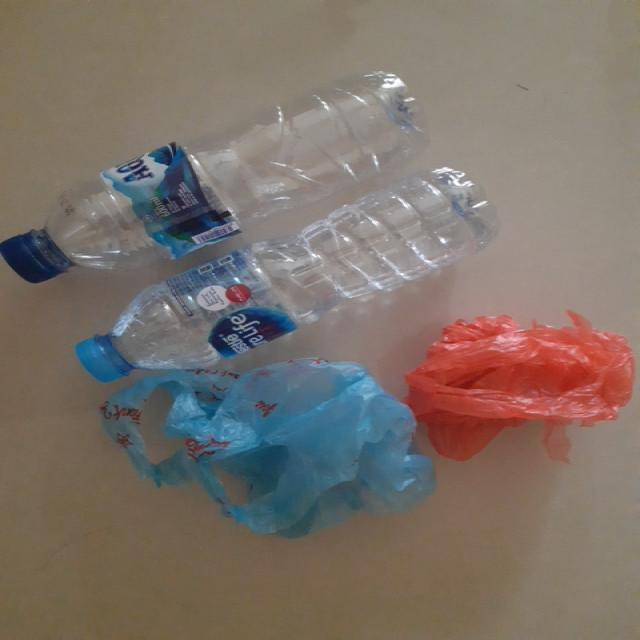Single-layer Plastic: (101, 359, 434, 537), (406, 311, 634, 462)
